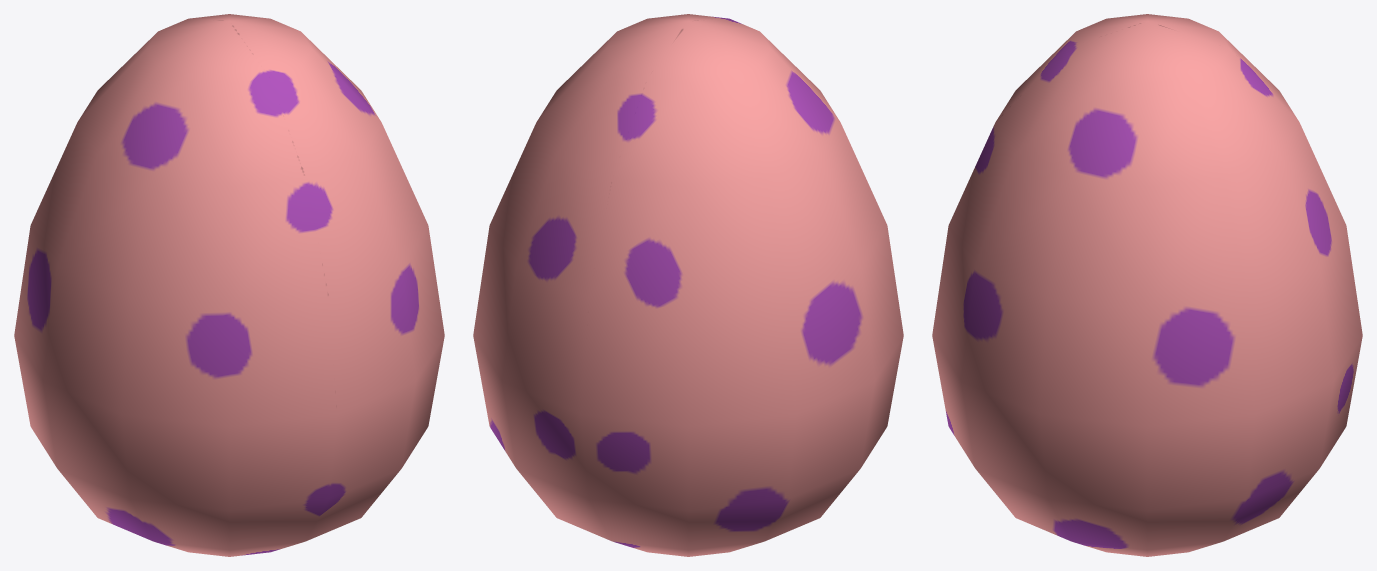
Rendered from EasterEgg_Pink.fbx.
The picture shows the model from 3 angles, left to right: view 1: azimuth 30°, elevation 25°; view 2: azimuth 150°, elevation 25°; view 3: azimuth 270°, elevation 25°; orthographic projection.
Parts seen in each view (by area): view 1: Sphere; view 2: Sphere; view 3: Sphere.
Part boxes in pixels (left/top/right/bottom): Sphere: left=14, top=14, right=444, bottom=556; Sphere: left=473, top=14, right=903, bottom=556; Sphere: left=932, top=14, right=1362, bottom=556.
Size of the model in its own units: 0.4834 by 0.6359 by 0.4834.
1 material, 1 textured.
